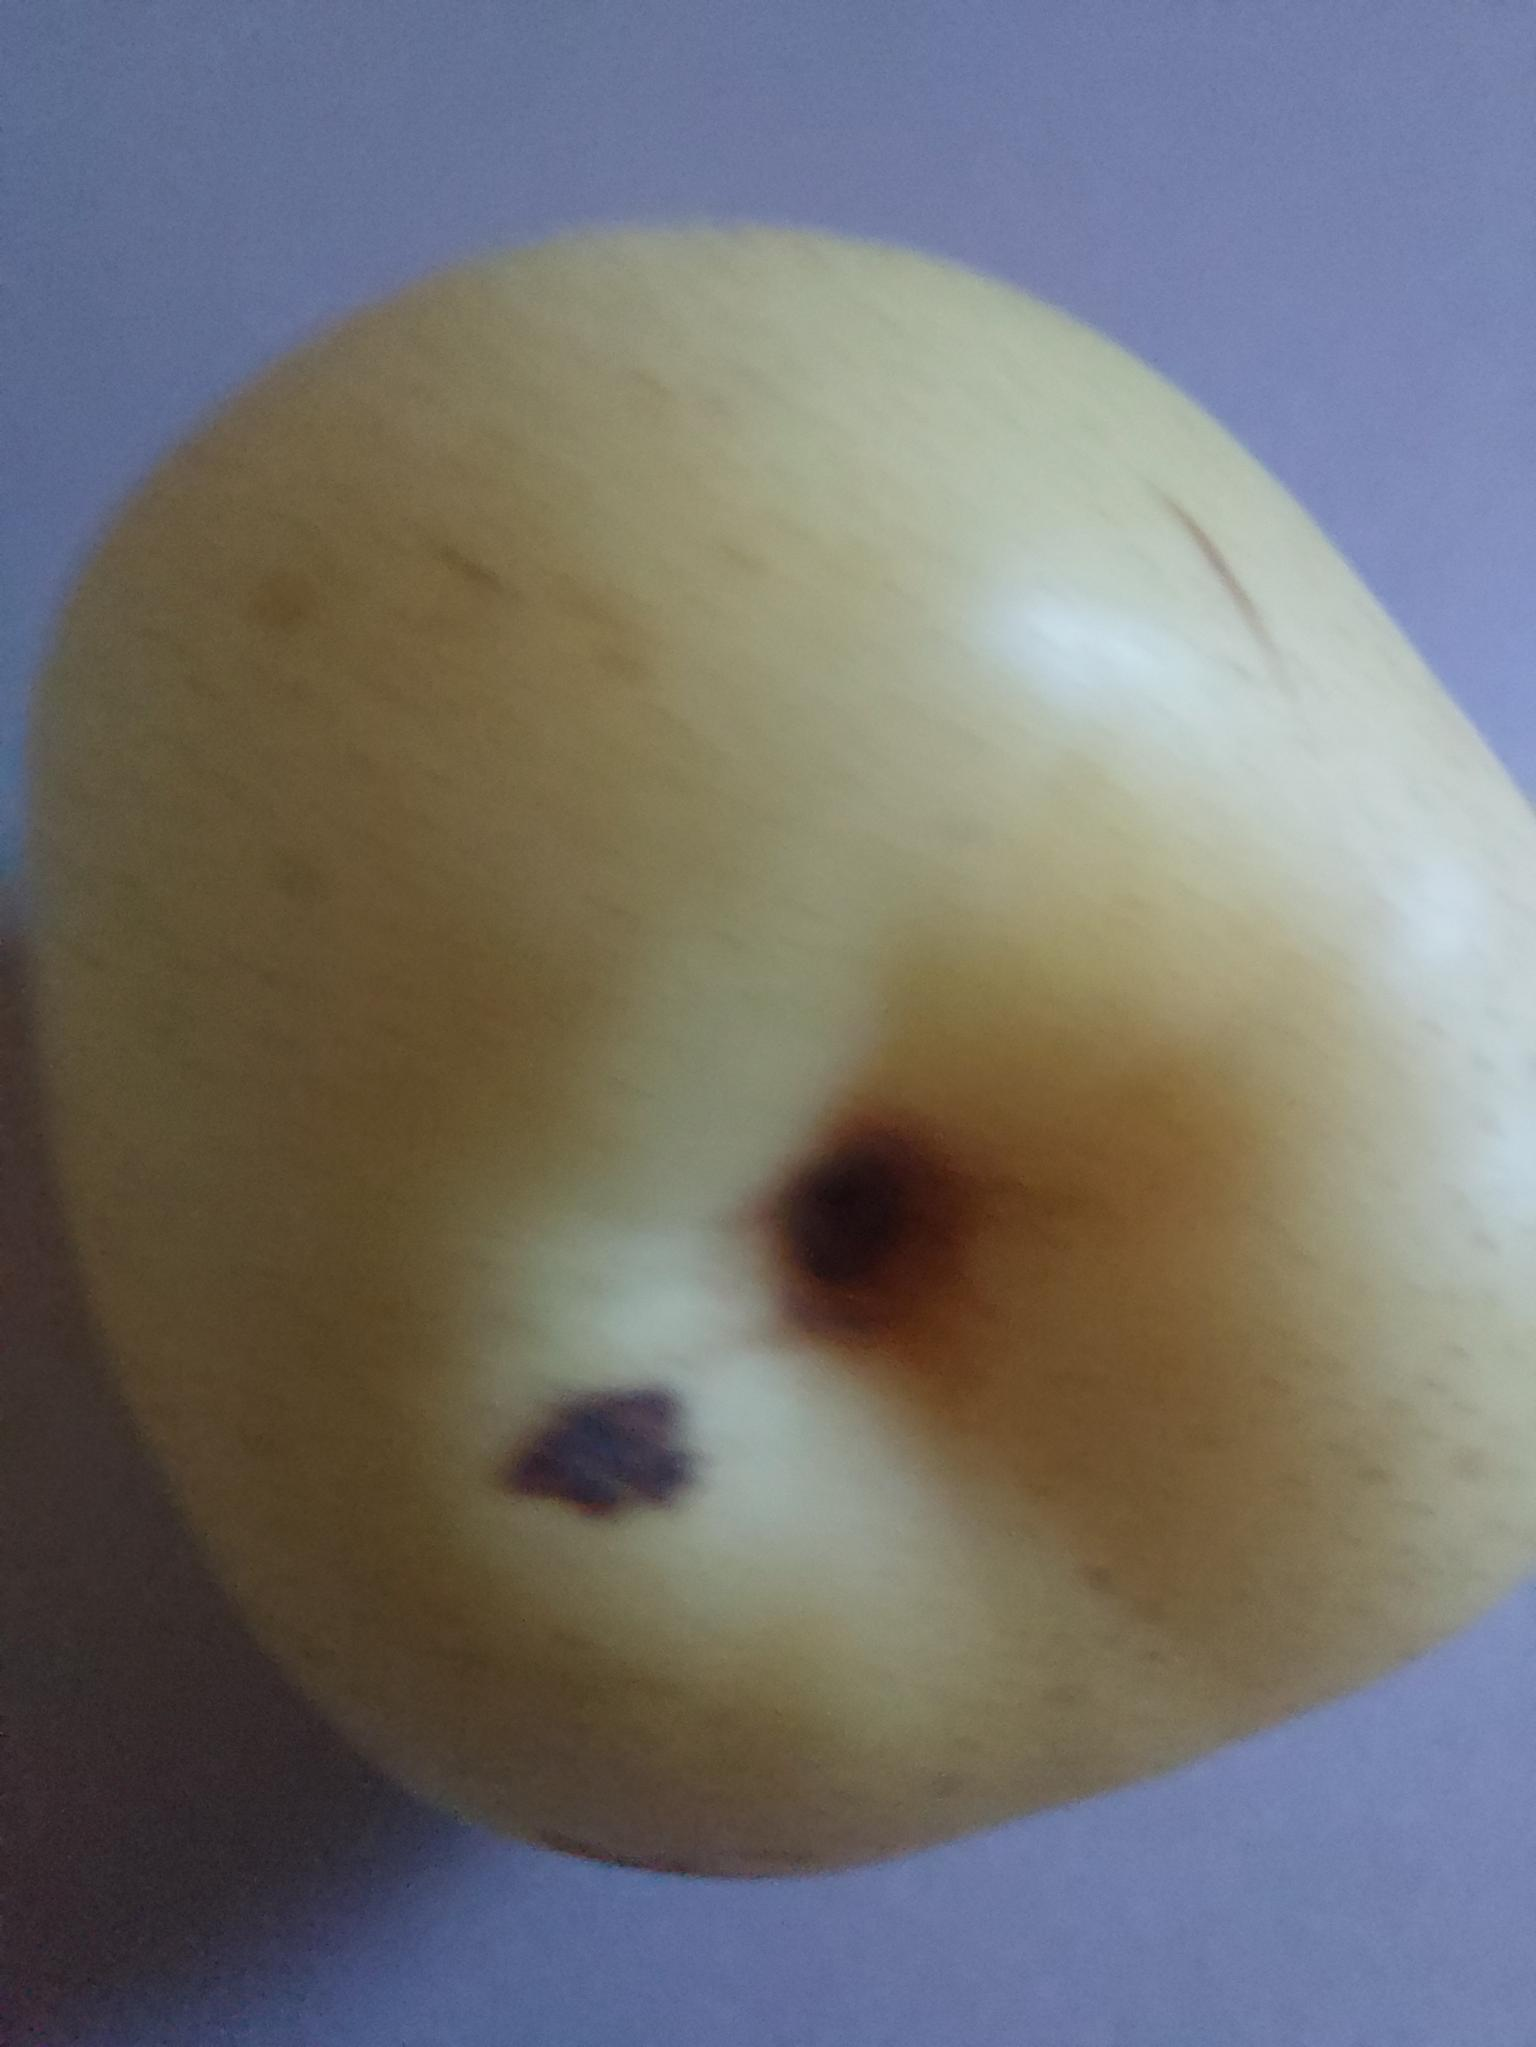Good Pear: (0, 211, 1536, 1934)
